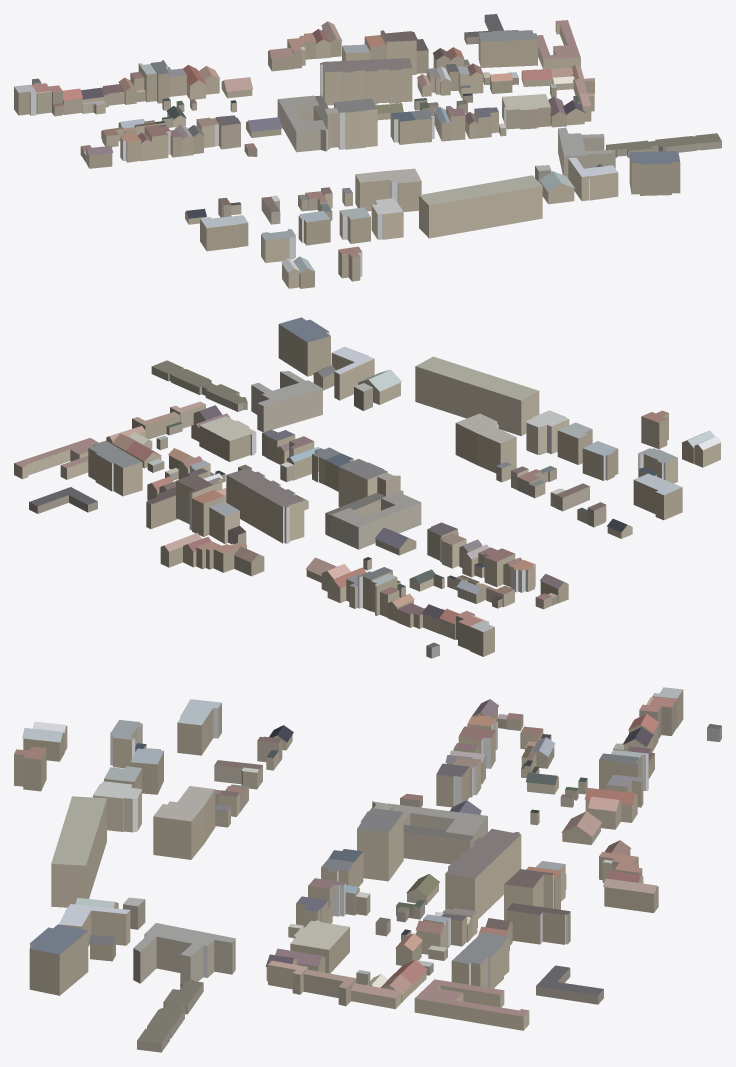
3 renders of one model, top to bottom at view 1: azimuth 30°, elevation 25°; view 2: azimuth 150°, elevation 25°; view 3: azimuth 270°, elevation 25°, orthographic. The views are drawn at different scales.
Parts seen in each view (by area): view 1: tuile; view 2: tuile; view 3: tuile.
Boxes of the visible parts, bbox=[...] form: tuile: bbox=[14, 14, 721, 288]; tuile: bbox=[14, 317, 721, 658]; tuile: bbox=[14, 687, 721, 1052].
Bounding box in the file's own units: 276 × 24.24 × 255.
